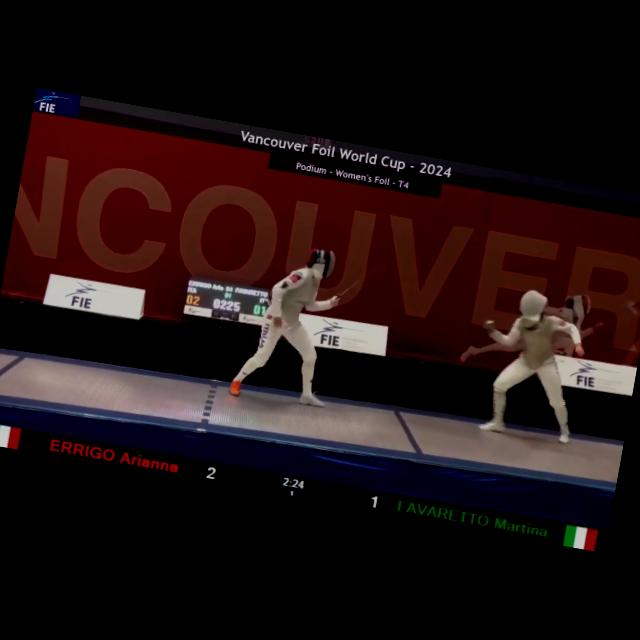blade: (334, 246, 396, 312)
